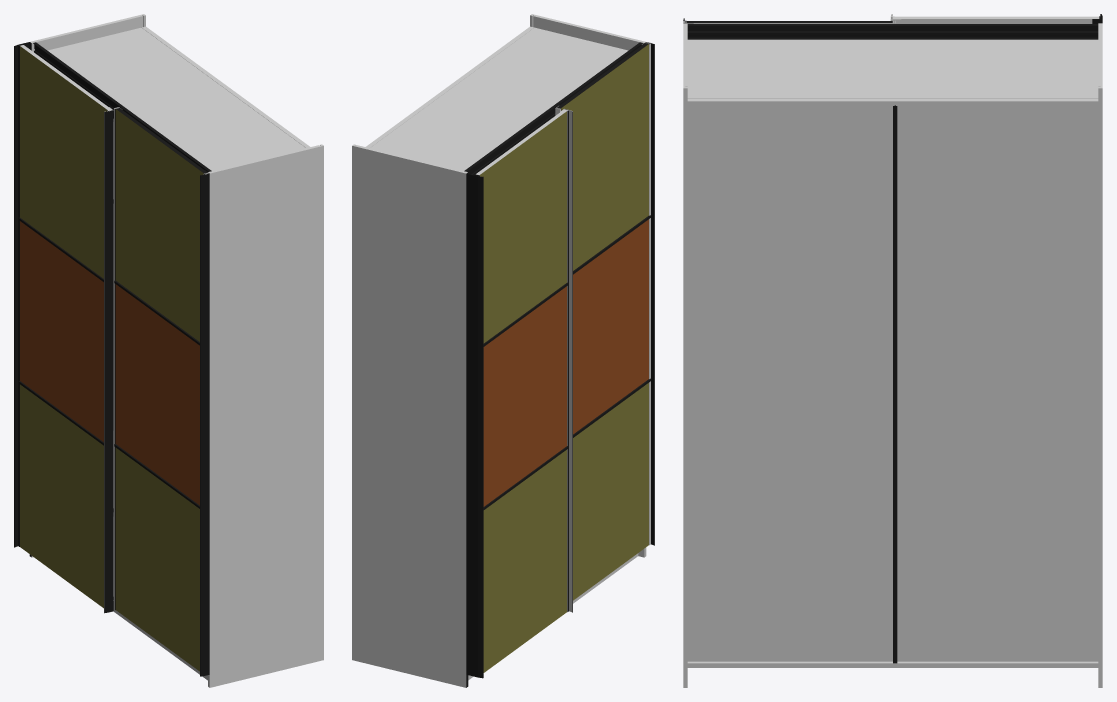
File: wardrobe.FBX
3 views of the same model, side by side, from view 1: azimuth 30°, elevation 25°; view 2: azimuth 150°, elevation 25°; view 3: azimuth 270°, elevation 25° (orthographic). The views are drawn at different scales.
Visible parts, largest first — view 1: Wardrobe; view 2: Wardrobe; view 3: Wardrobe.
Part boxes in pixels (x1,y1,x2,y2): Wardrobe: (14,14,323,687); Wardrobe: (352,14,654,687); Wardrobe: (683,14,1102,687).
Size of the model in its own units: 25.2 by 94.88 by 60.17.
